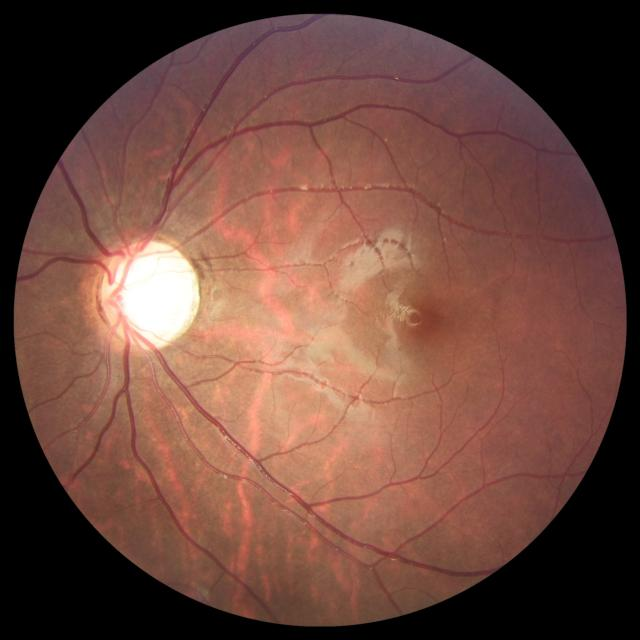OC: (107, 246, 197, 338)
OD: (96, 235, 199, 351)
